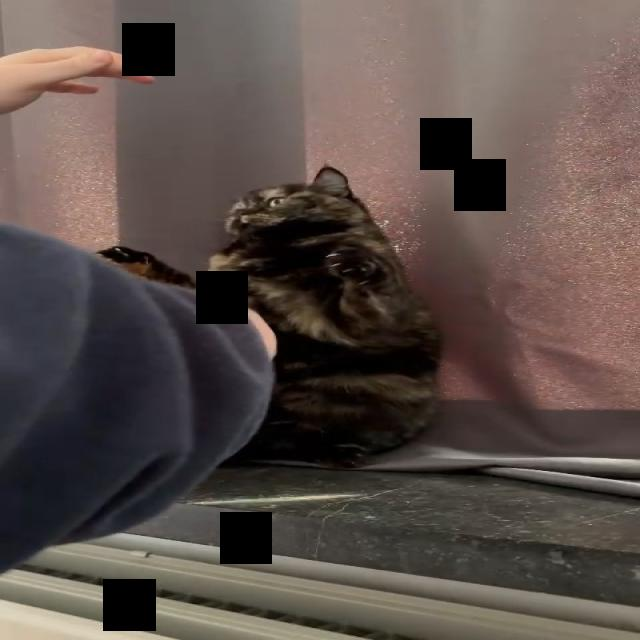authorized: (95, 164, 444, 468)
